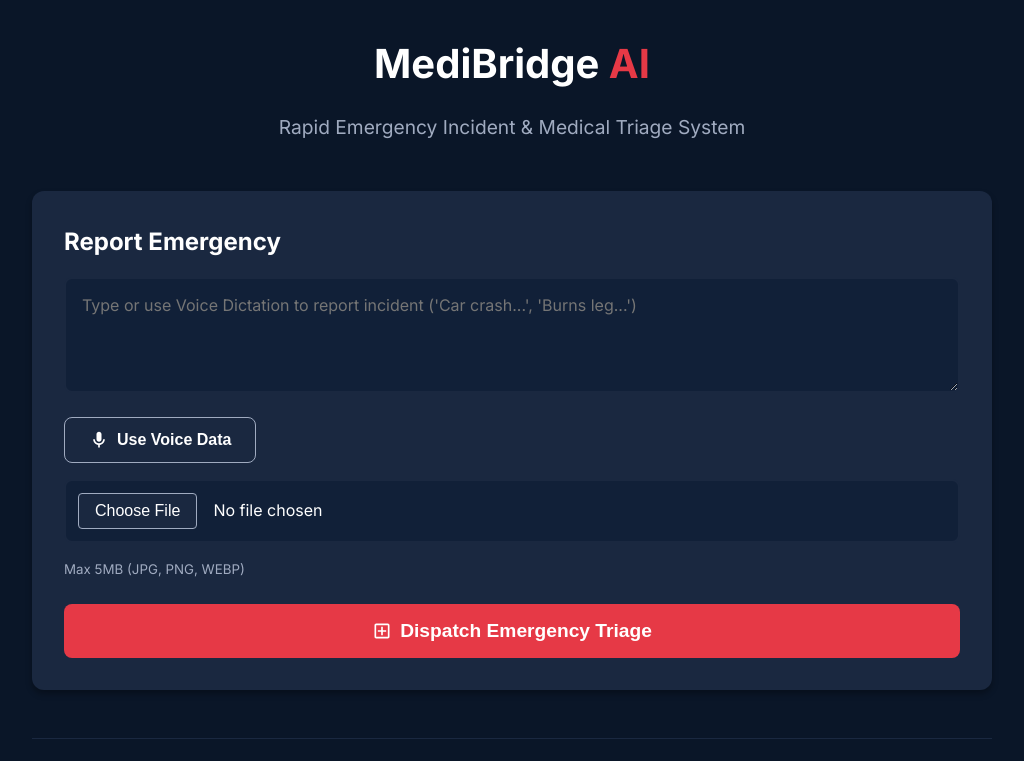
Test: MediBridge AI Integration Tests › handles Input Validation edge cases restricting invalid formats natively
Note: Submit empty bounds
Click the button "Dispatch Emergency Triage" at (512, 631), box 64,604 -> 960,658
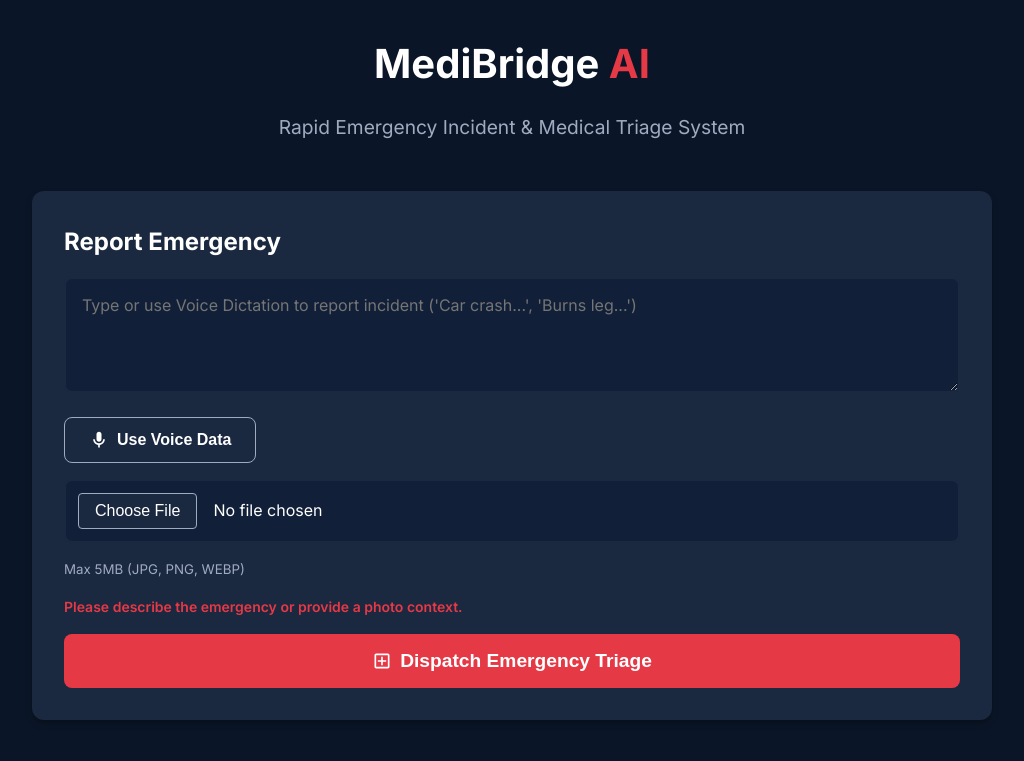
Now the text "Please describe the emergency or provide a photo context." is shown, box 64,598 -> 463,615
Note: Submit script injection bounds
Replace the text in the text box with placeholder "Type or use Voice Dictation" with "Bad script <script>alert(1)</script>" at (512, 335), box 64,277 -> 960,393
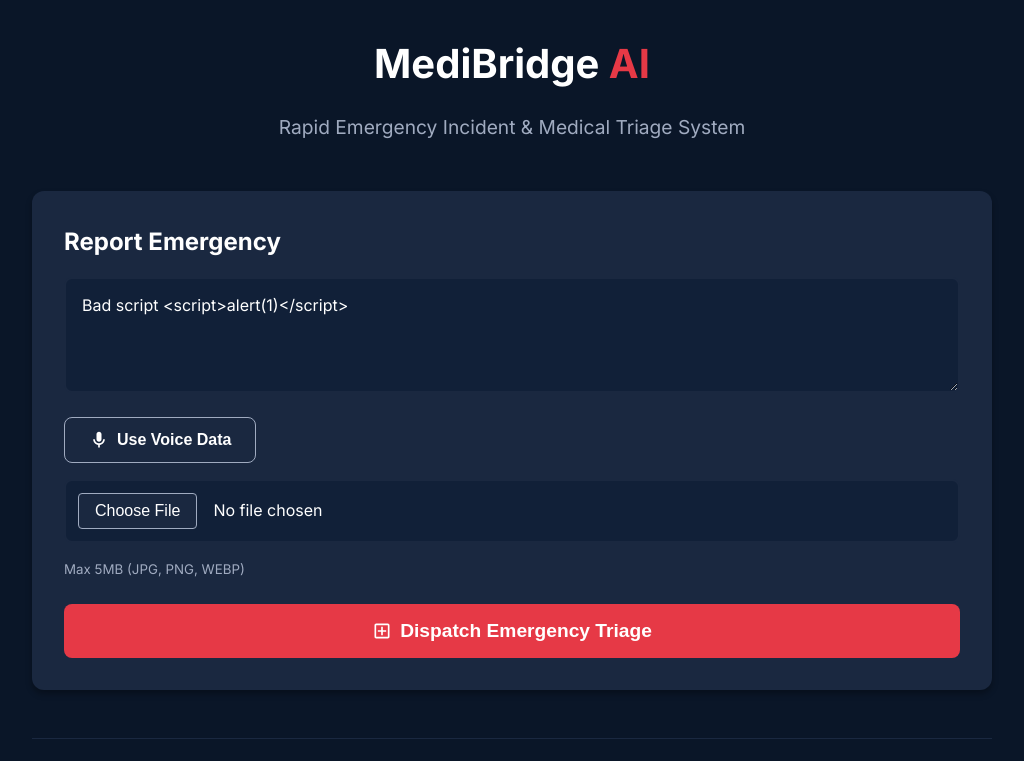
Click the button "Dispatch Emergency Triage" at (512, 631), box 64,604 -> 960,658
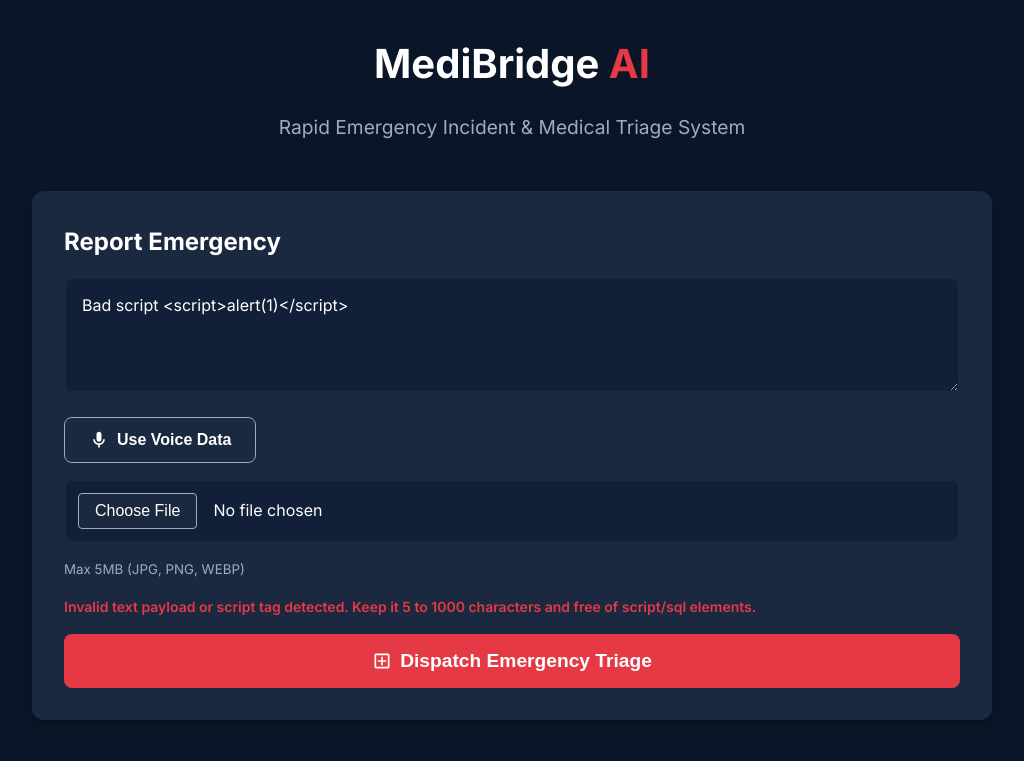
Now the text "Invalid text payload or script tag detected" is shown, box 64,598 -> 756,615
